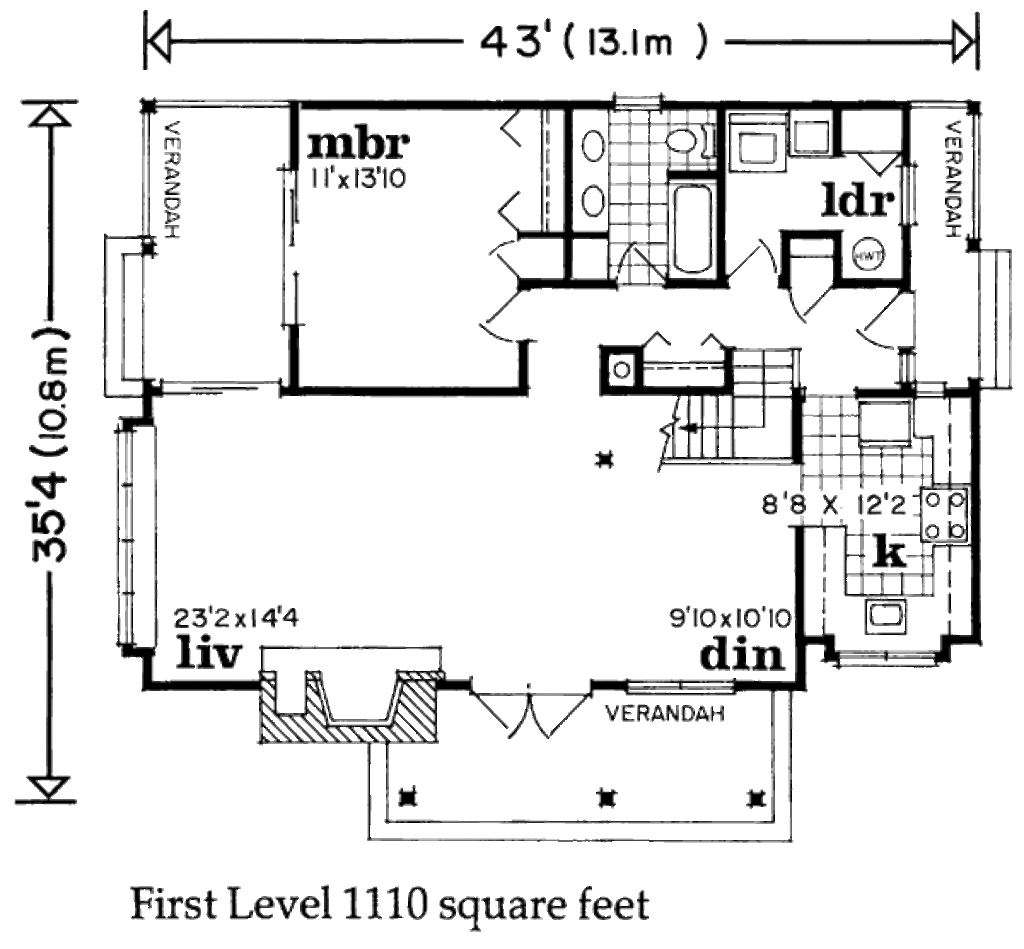door: (466, 677, 592, 746), (473, 282, 543, 359), (596, 236, 672, 288), (860, 287, 920, 348), (781, 272, 834, 333), (711, 242, 775, 290)
large_sink: (657, 111, 715, 159)
small_sink: (570, 111, 605, 230)
stairs: (666, 345, 808, 481)
window: (111, 414, 150, 648), (794, 630, 949, 671), (599, 77, 676, 120), (630, 678, 734, 707)
